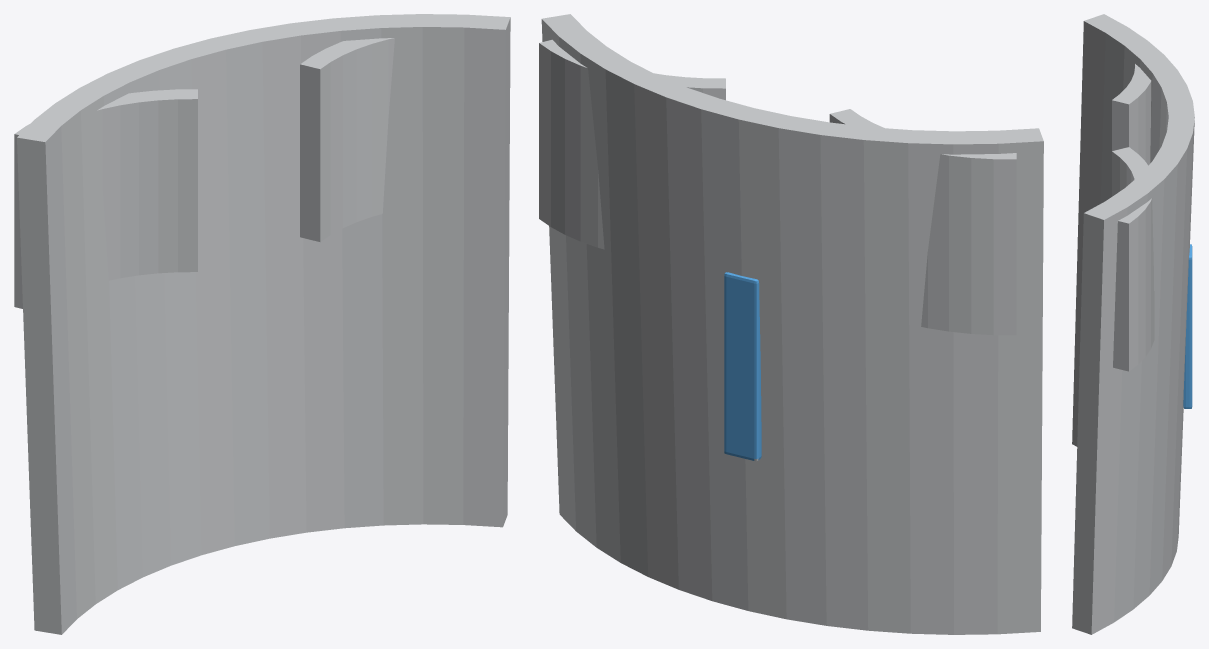
The model's file is back__scapula_shell.glb.
The picture shows the model from 3 angles, left to right: view 1: azimuth 30°, elevation 25°; view 2: azimuth 150°, elevation 25°; view 3: azimuth 270°, elevation 25°; orthographic projection. The views are drawn at different scales.
Visible parts, largest first — view 1: armor_armor_back__scapula_shell_v001_v001; view 2: armor_armor_back__scapula_shell_v001_v001; view 3: armor_armor_back__scapula_shell_v001_v001.
Part boxes in pixels (<box>): armor_armor_back__scapula_shell_v001_v001: <box>14,14,510,634</box>; armor_armor_back__scapula_shell_v001_v001: <box>539,14,1043,634</box>; armor_armor_back__scapula_shell_v001_v001: <box>1072,14,1194,634</box>.
Size of the model in its own units: 0.5376 by 0.51 by 0.1354.
